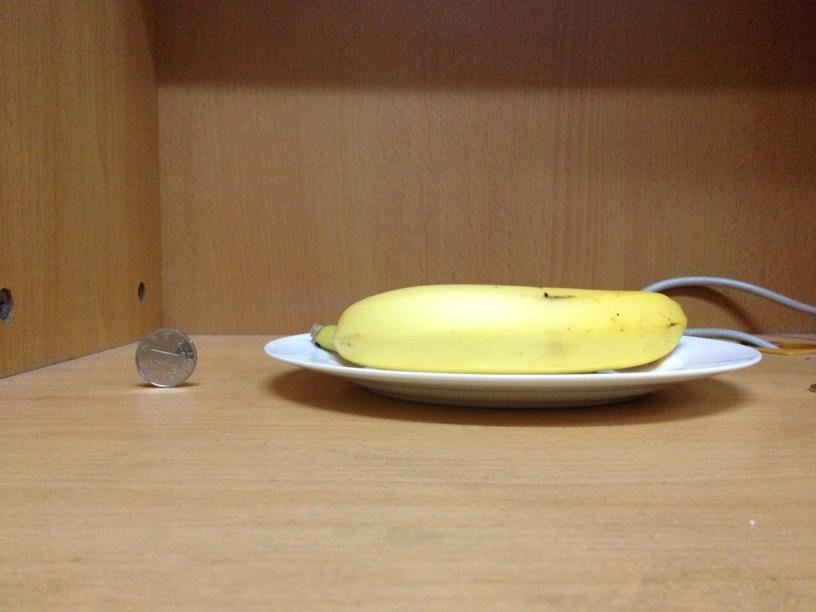banana: (317, 284, 687, 370)
coin: (132, 328, 201, 386)
